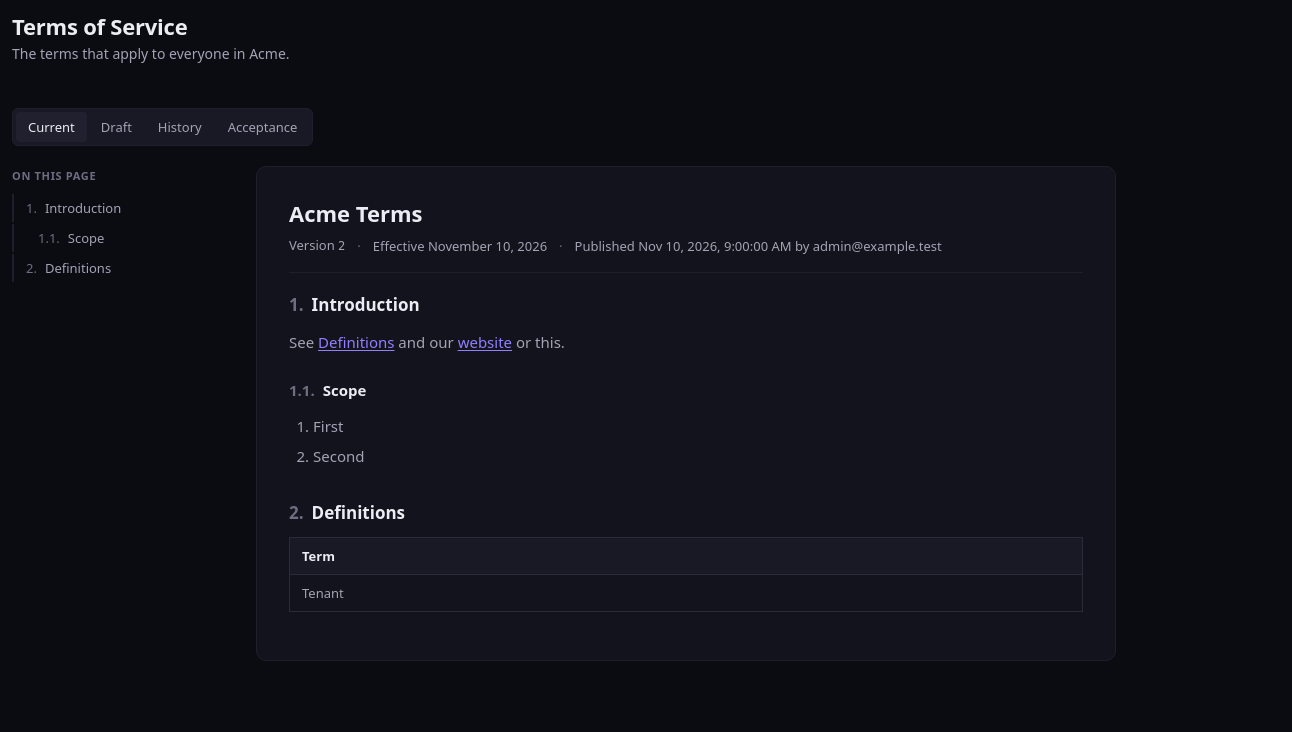
Test: Terms of Service page › administrators see the document on Current (no statistics there) and the history
Expected: the element "Acme Terms" is shown, [256,166,1116,661]
Step 1. Click the tab "History" → [180, 127], box [146,112,214,142]
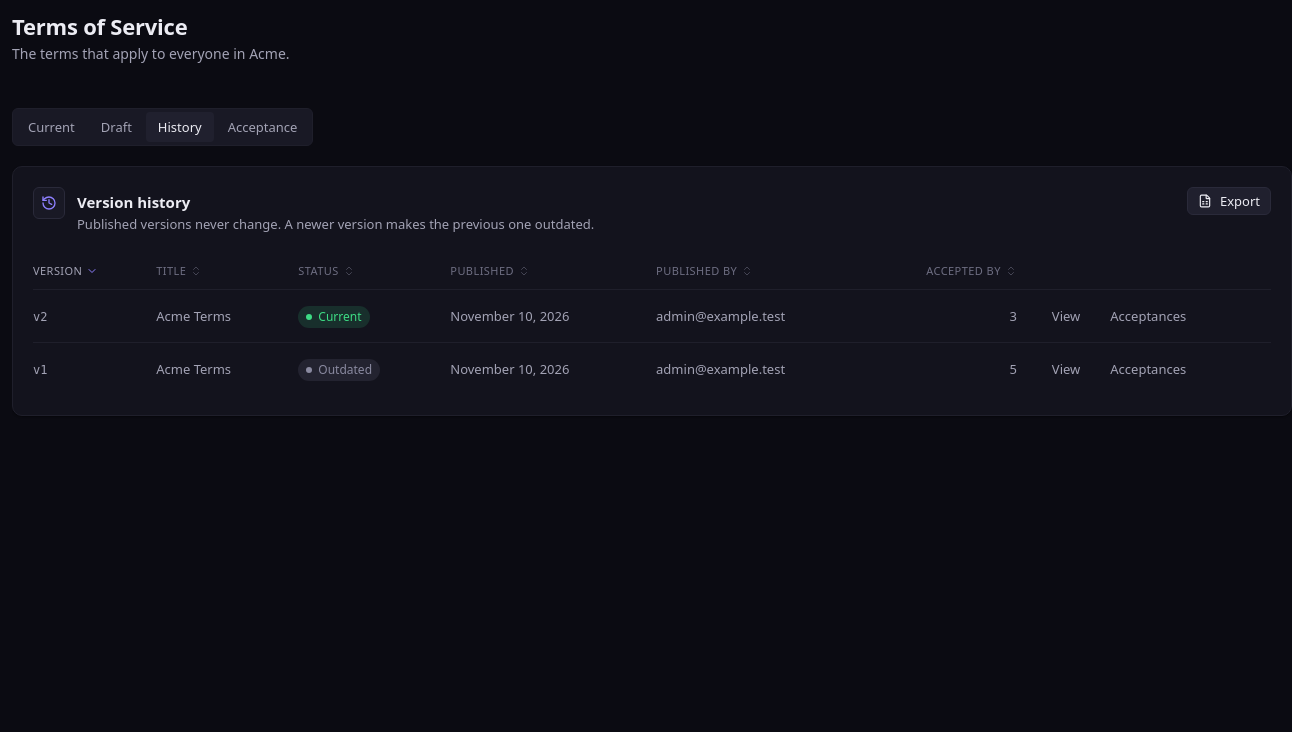
Now the text "v1" is shown, box [33,362,48,376]
Now the text "Outdated" is shown, box [298,358,380,380]
